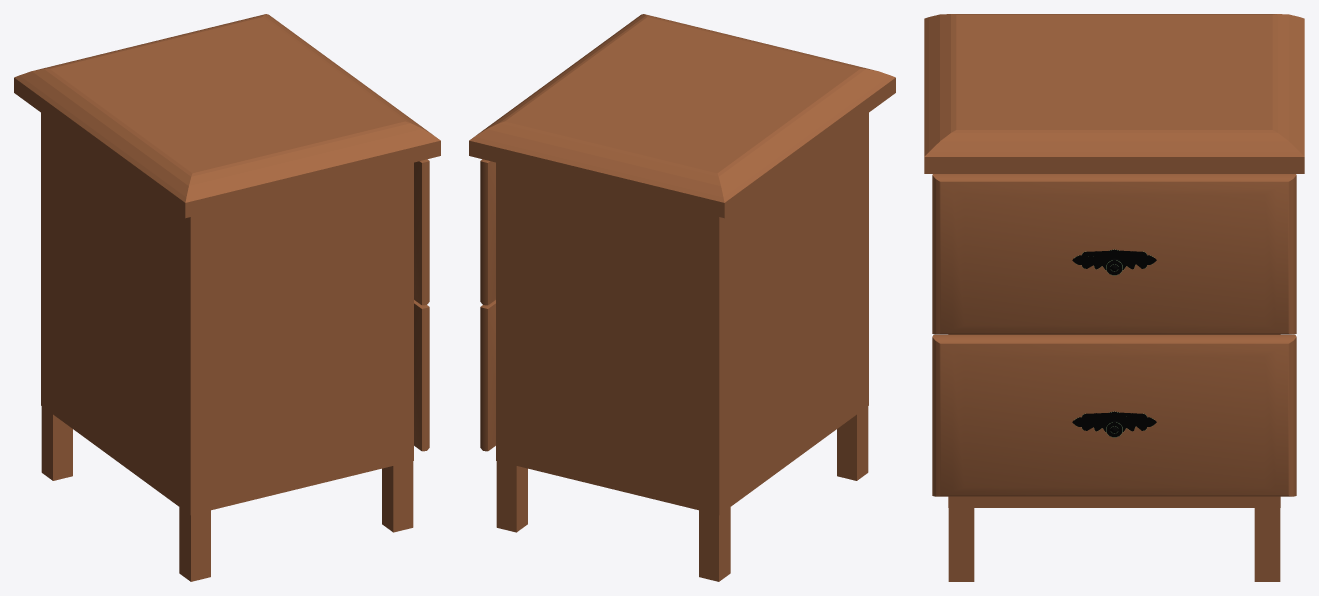
File: komodinaFull.fbx
The picture shows the model from 3 angles, left to right: view 1: azimuth 30°, elevation 25°; view 2: azimuth 150°, elevation 25°; view 3: azimuth 270°, elevation 25°; orthographic projection. The views are drawn at different scales.
Visible parts, largest first — view 1: Cylinder.002; view 2: Cylinder.002; view 3: Cylinder.002.
Boxes of the visible parts, <box> form: Cylinder.002: <box>14,14,440,581</box>; Cylinder.002: <box>469,14,895,581</box>; Cylinder.002: <box>924,14,1304,581</box>.
Bounding box in the file's own units: 357 × 513 × 393.
